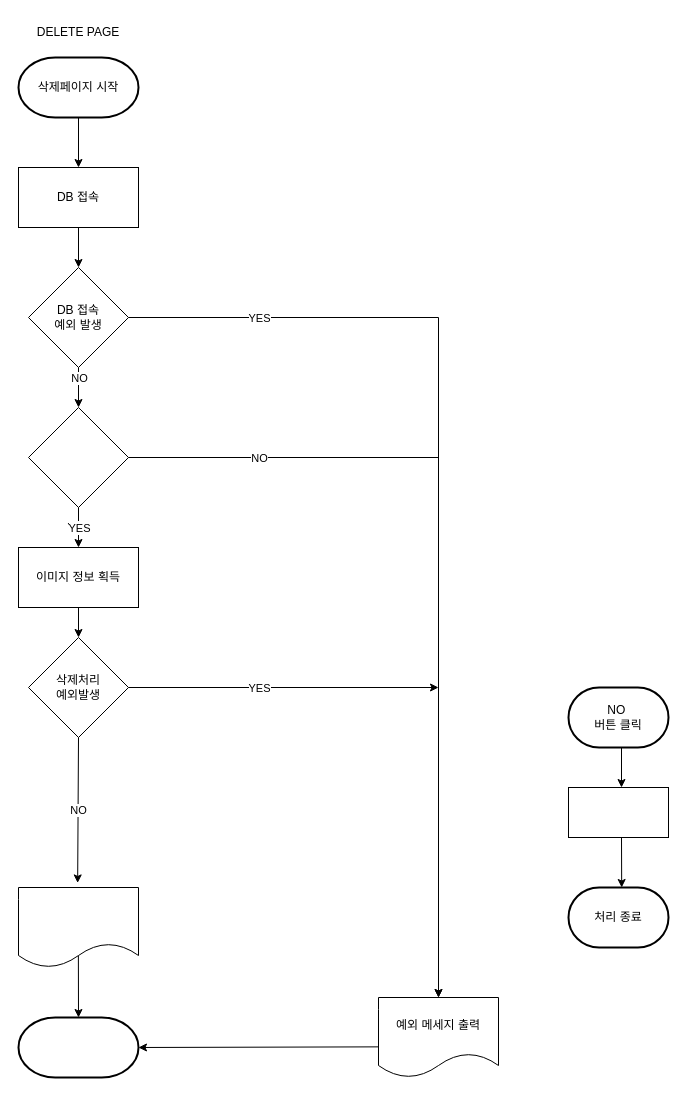
The diagram is 686 pixels wide and 1095 high, and some of its shapes have lost their labels. The centre of each missing label's shape, as x and y in pixels:
게시글no 파라미터 획득: (x=78, y=457)
디테일페이지 종료: (x=78, y=1047)
리스트 페이지 이동: (x=618, y=812)
화면 출력: (x=78, y=927)
